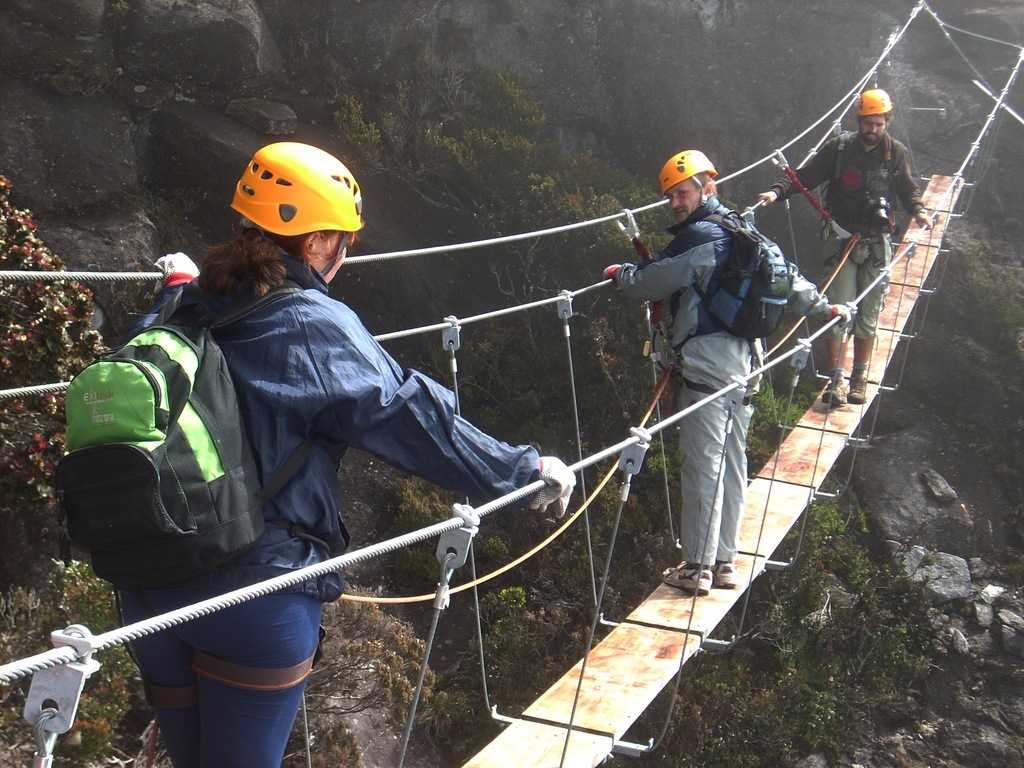Person: (118, 141, 575, 768), (596, 145, 851, 598), (757, 87, 933, 410)
